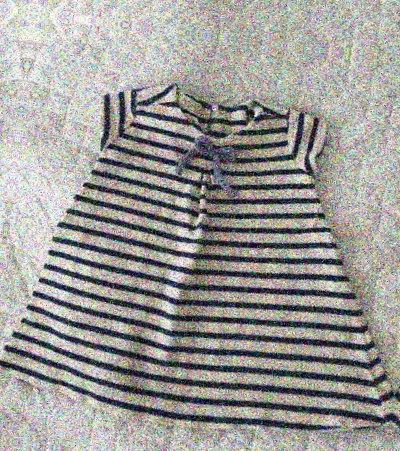Dress: (0, 49, 400, 451), (48, 0, 400, 30), (0, 0, 19, 418), (385, 100, 400, 451)
